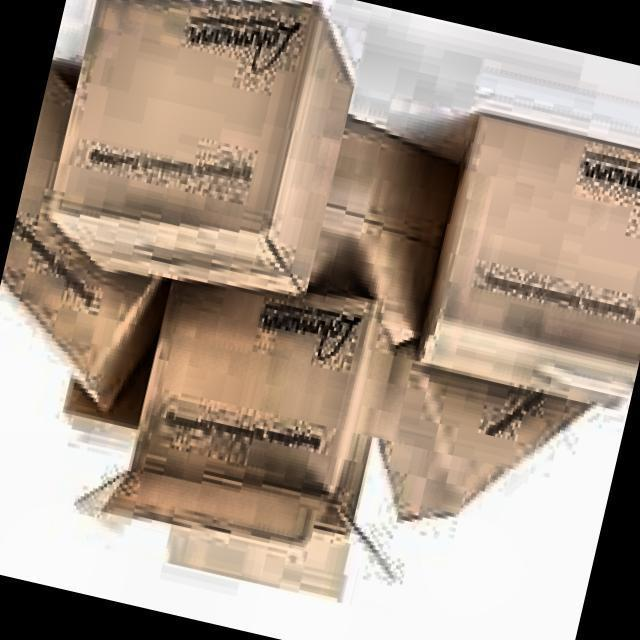cardboard: (78, 246, 407, 582), (34, 0, 372, 320), (0, 63, 212, 422), (413, 110, 640, 416)
